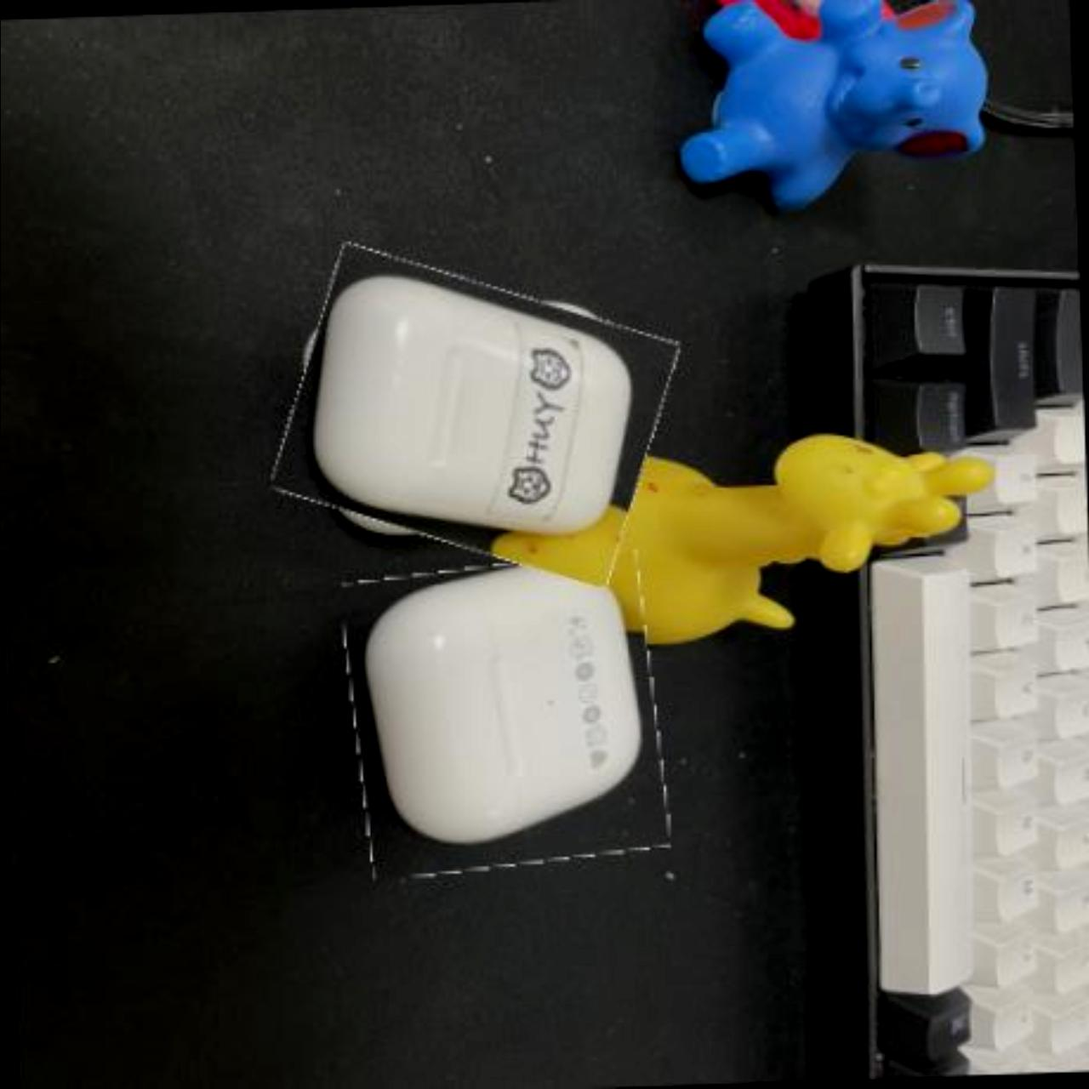AirPods: (279, 256, 669, 573), (346, 553, 665, 875)
